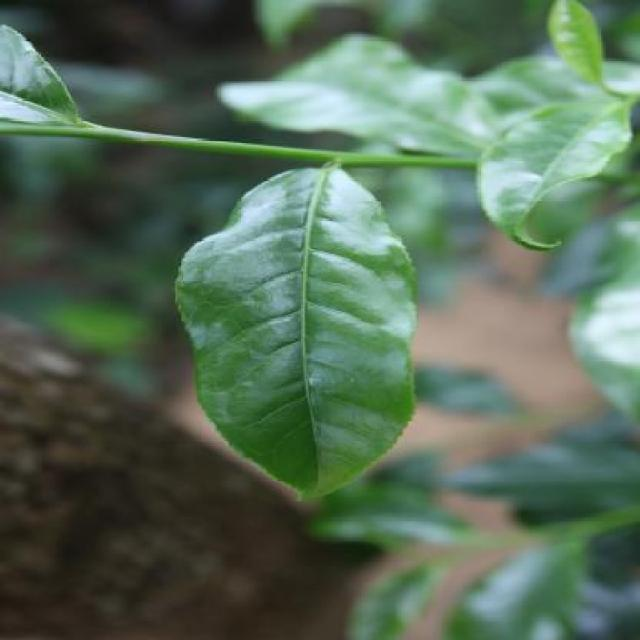Tea leaf: (175, 158, 418, 510)
